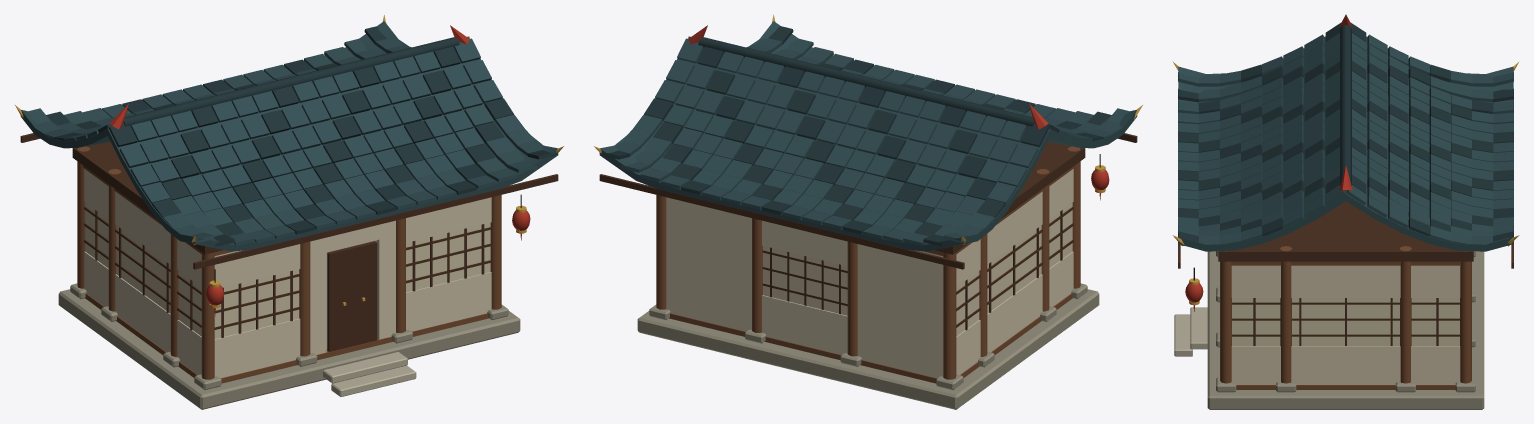
File: house_small.glb
3 renders of one model, left to right at view 1: azimuth 30°, elevation 25°; view 2: azimuth 150°, elevation 25°; view 3: azimuth 270°, elevation 25°, orthographic. The views are drawn at different scales.
Parts seen in each view (by area): view 1: HouseSmall; view 2: HouseSmall; view 3: HouseSmall.
Boxes of the visible parts, x1,y1,x2,y2 form: HouseSmall: (15,15,563,409); HouseSmall: (594,15,1142,409); HouseSmall: (1172,14,1519,409).
Size of what is drawn, in the model's own units: 7.73 by 5.18 by 6.52.
